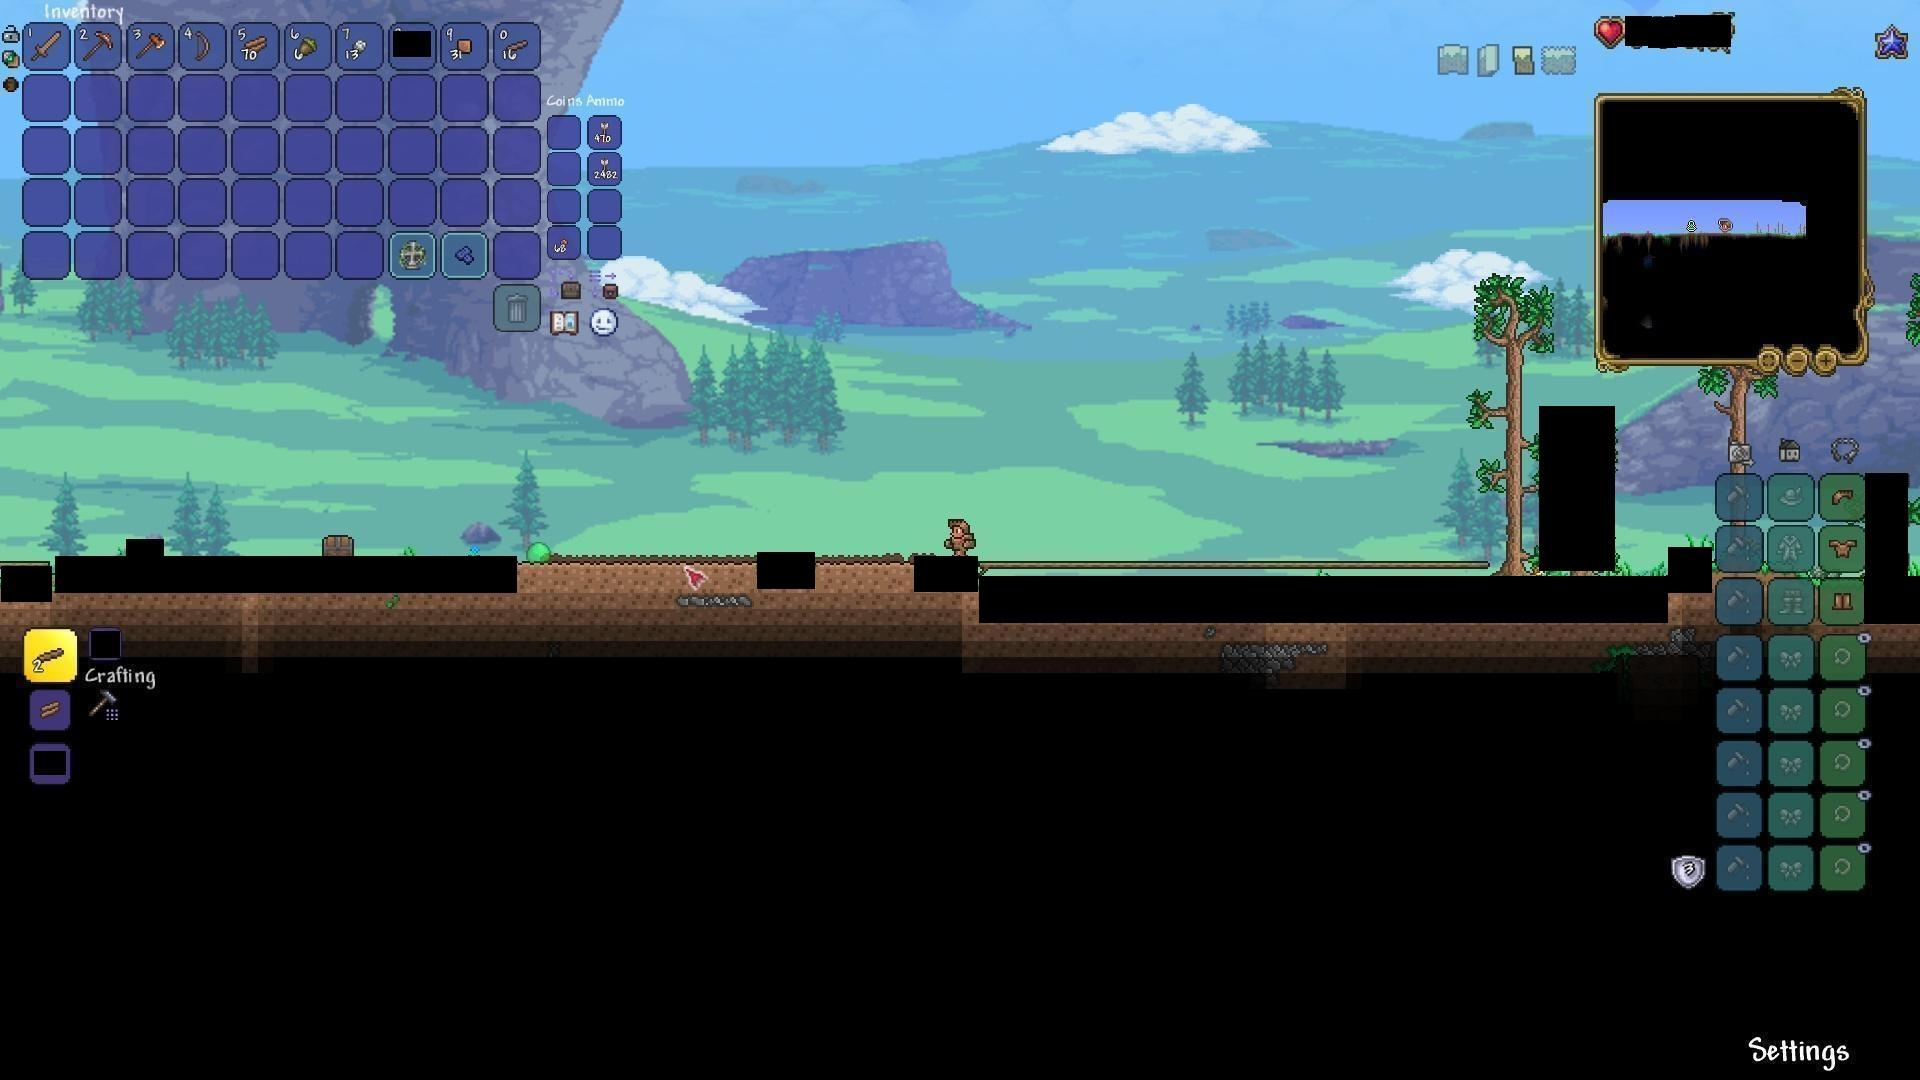breastplate: (1829, 537, 1858, 558)
heart: (1596, 15, 1625, 44)
helmet: (1826, 484, 1857, 510)
legs: (1832, 588, 1855, 616)
slime: (526, 541, 551, 568)
tree: (1473, 262, 1540, 570)
wood: (243, 34, 272, 61), (36, 695, 65, 721)
